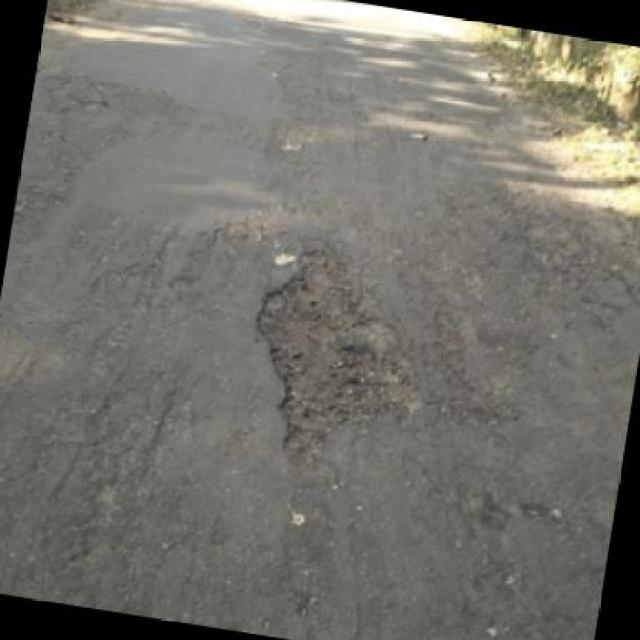pothole1: (227, 225, 444, 487)
